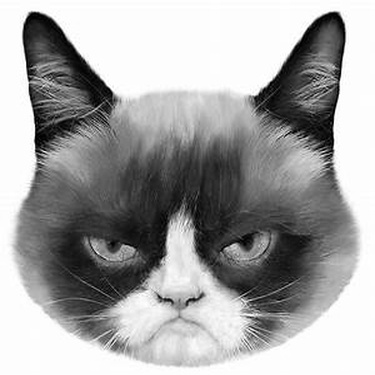cat: (2, 1, 358, 369)
